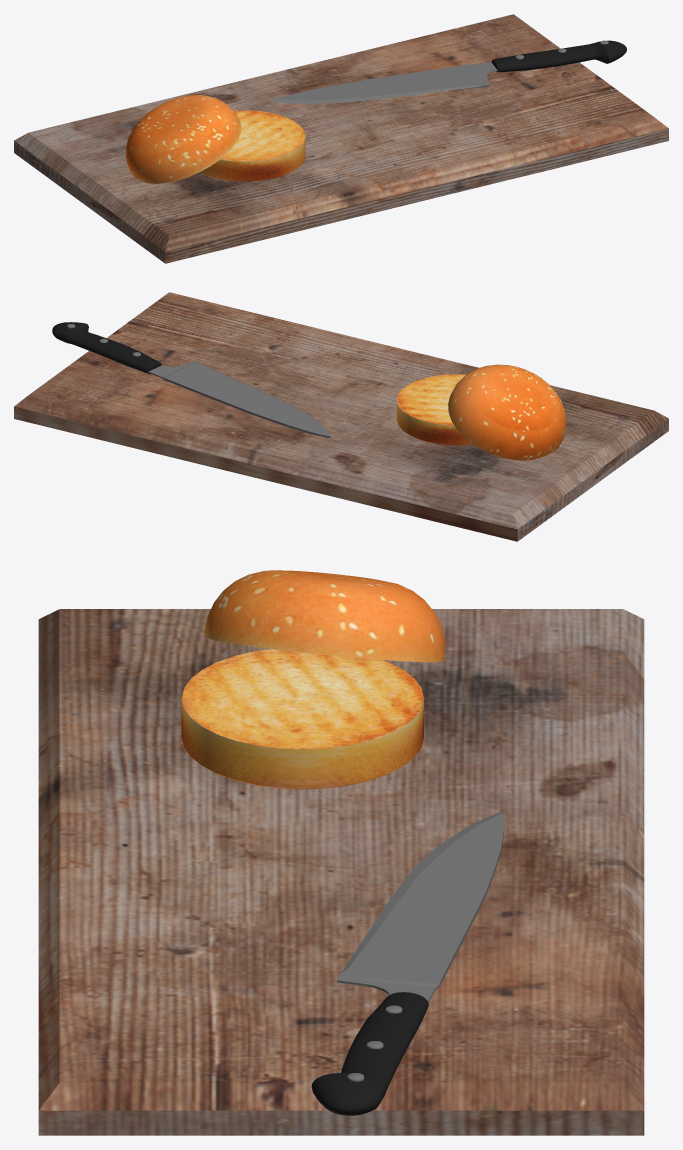
File: snijplank We are cooked.fbx
The picture shows the model from 3 angles, top to bottom: view 1: azimuth 30°, elevation 25°; view 2: azimuth 150°, elevation 25°; view 3: azimuth 270°, elevation 25°; orthographic projection. The views are drawn at different scales.
Visible parts, largest first — view 1: Cube.005, bovenkant broodje.008, onderkant broodje.008, Cube.007, Cylinder.001; view 2: Cube.005, bovenkant broodje.008, Cube.007, onderkant broodje.008, Cylinder.001; view 3: Cube.005, onderkant broodje.008, bovenkant broodje.008, Cube.007, Cylinder.001.
Boxes of the visible parts, box(x1,y1,x2,y2) form: Cube.005: box(14, 14, 668, 263); bovenkant broodje.008: box(126, 95, 241, 183); onderkant broodje.008: box(200, 110, 305, 181); Cube.007: box(271, 62, 497, 103); Cylinder.001: box(491, 40, 626, 72); Cube.005: box(14, 292, 668, 541); bovenkant broodje.008: box(448, 364, 566, 460); Cube.007: box(148, 361, 331, 437); onderkant broodje.008: box(397, 374, 472, 445); Cylinder.001: box(52, 322, 161, 373); Cube.005: box(38, 609, 644, 1135); onderkant broodje.008: box(181, 649, 423, 789); bovenkant broodje.008: box(204, 570, 445, 662); Cube.007: box(337, 812, 504, 1002); Cylinder.001: box(311, 992, 428, 1115).
Size of the model in its own units: 51.24 by 7.68 by 25.
